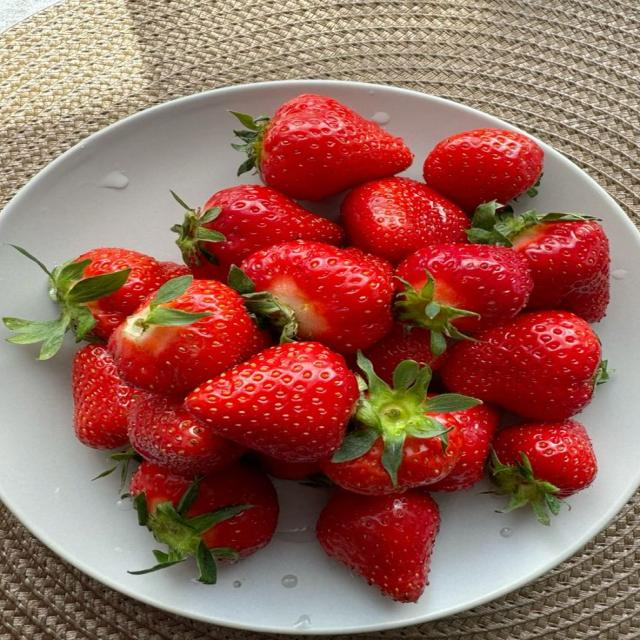strawberry: (323, 354, 479, 494), (186, 342, 358, 462), (4, 246, 172, 359), (234, 94, 413, 200), (109, 276, 264, 396), (440, 310, 607, 420), (130, 462, 279, 583), (239, 241, 393, 353), (469, 202, 610, 322), (173, 184, 344, 281), (396, 244, 533, 354), (316, 488, 439, 602), (340, 177, 470, 264), (491, 420, 597, 524), (423, 128, 543, 213), (127, 393, 246, 475), (72, 344, 138, 448), (428, 404, 500, 491), (363, 323, 443, 384), (257, 453, 321, 480), (160, 261, 193, 281)
